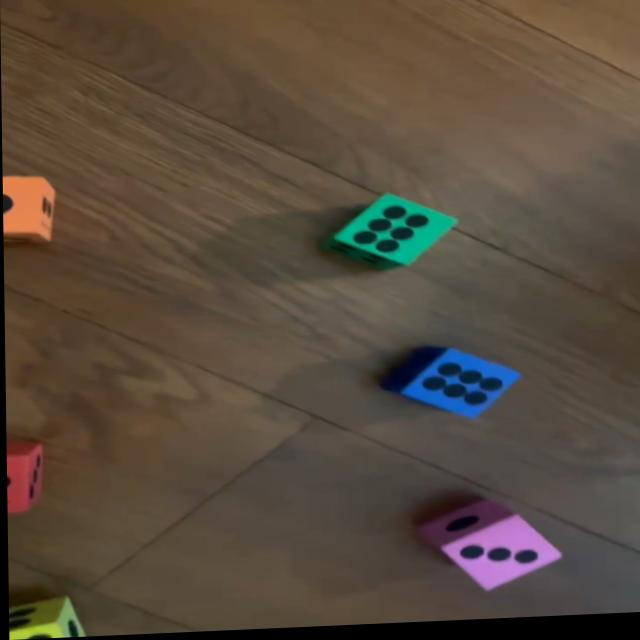cube: (320, 192, 462, 275), (385, 342, 522, 426), (5, 444, 45, 513)
